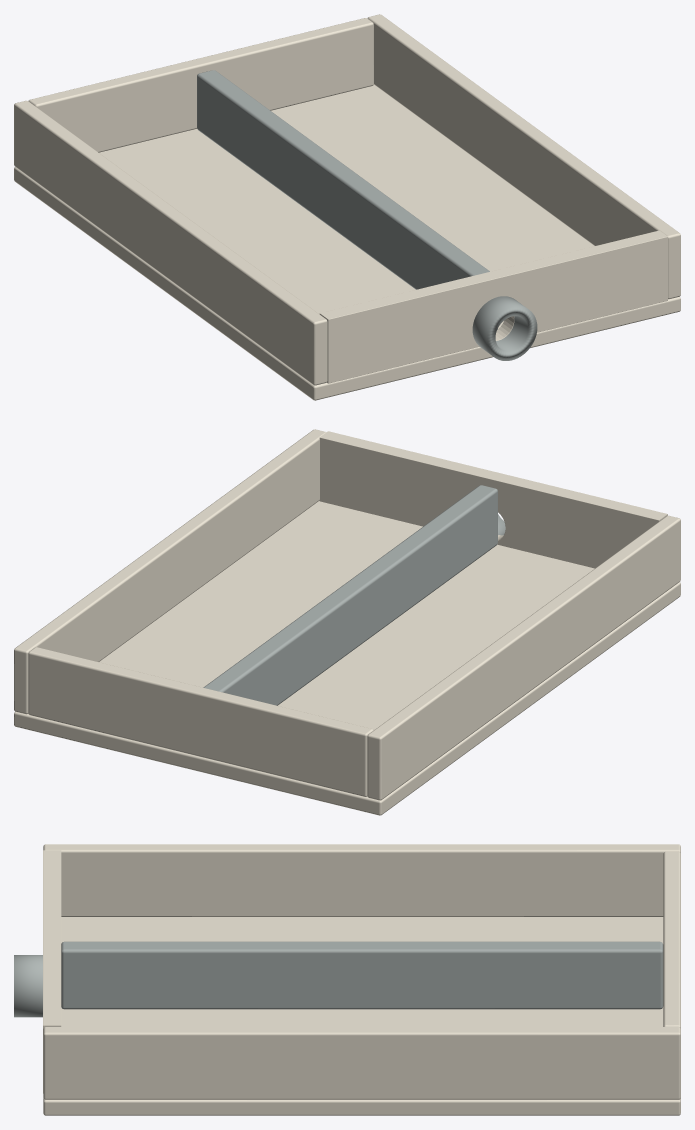
The model's file is museum-conservation-and-art-restoration-museum-conserv-0ba3932e__31875.glb.
The picture shows the model from 3 angles, top to bottom: view 1: azimuth 30°, elevation 25°; view 2: azimuth 150°, elevation 25°; view 3: azimuth 270°, elevation 25°; orthographic projection. The views are drawn at different scales.
Visible parts, largest first — view 1: museum-conservation-and-art-restoration-vacuum-plenum-module (×2); view 2: museum-conservation-and-art-restoration-vacuum-plenum-module (×2); view 3: museum-conservation-and-art-restoration-vacuum-plenum-module (×2).
Boxes of the visible parts, bbox=[...] form: museum-conservation-and-art-restoration-vacuum-plenum-module (×2): bbox=[14, 14, 680, 400]; museum-conservation-and-art-restoration-vacuum-plenum-module (×2): bbox=[14, 429, 680, 815]; museum-conservation-and-art-restoration-vacuum-plenum-module (×2): bbox=[14, 844, 680, 1115].
Bounding box in the file's own units: 1.15 × 0.2359 × 1.7.
